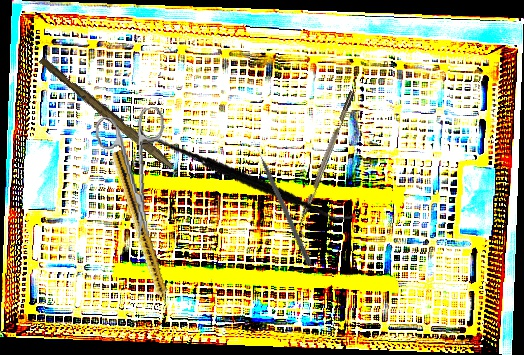Chopper: (292, 90, 362, 238)
Handpiece: (107, 149, 176, 318)
Iris Scissors: (92, 106, 177, 242)
Pusher: (251, 138, 314, 267)
Scalpel Handle: (36, 55, 178, 171)
Spatula Surgical: (136, 107, 357, 255)
